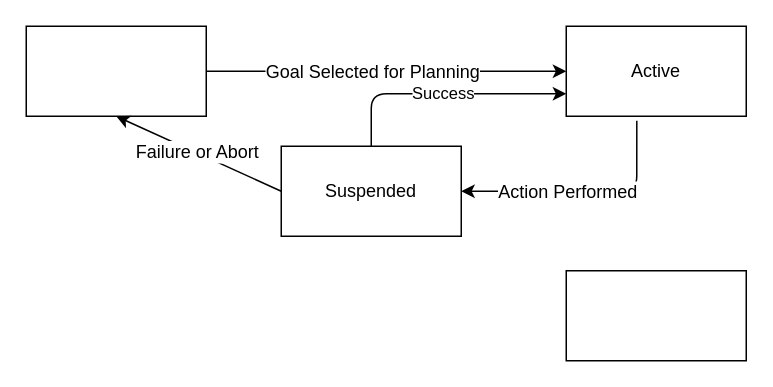
This 773x387 diagram has some shape labels left out. Each missing label, with the centre of its shape:
Abort: the point at 655,315
Pending: the point at 115,70
